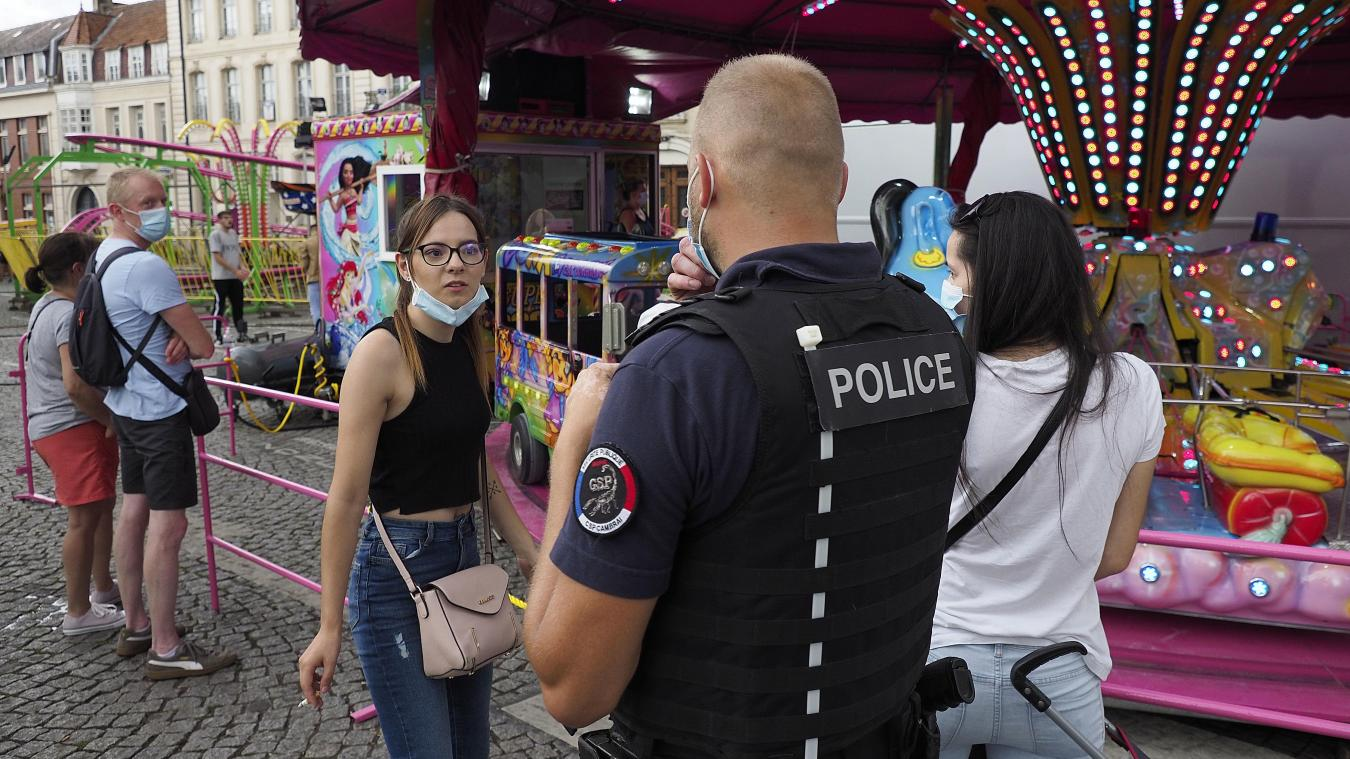with_incorrect_mask: (411, 220, 483, 319)
with_mask: (945, 238, 1003, 338), (127, 186, 165, 239)
